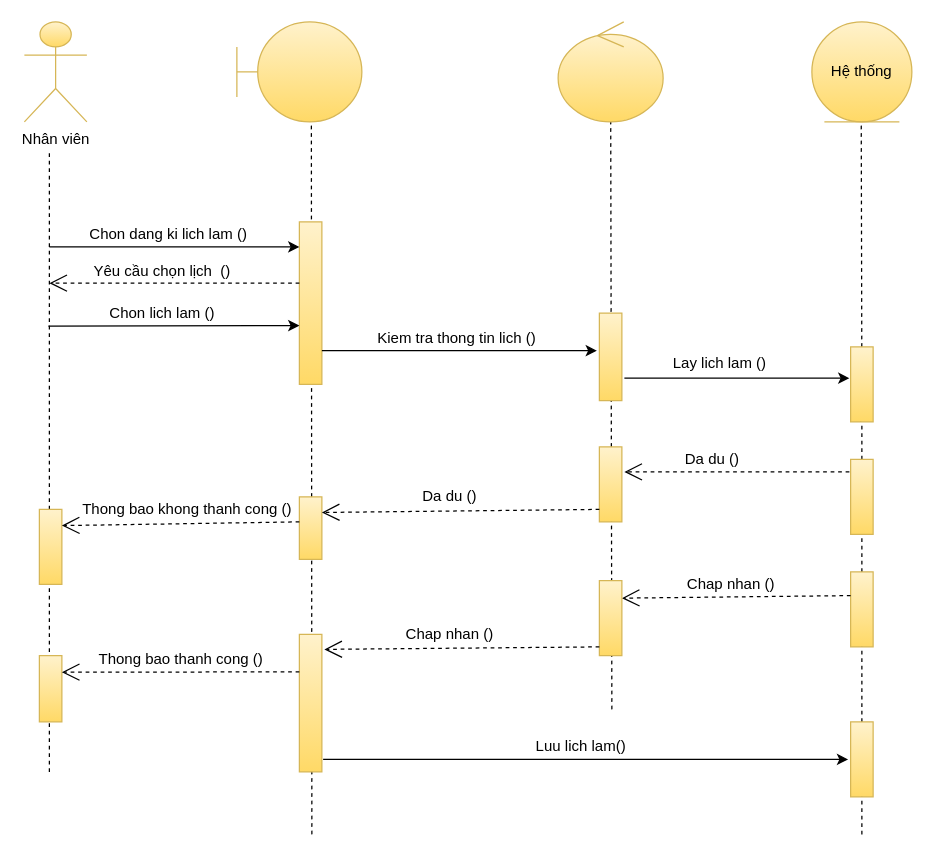
Some shapes in this 934 by 858 pixel diagram are drawn without their labels. Each missing label, with the centre of its shape:
Form đăng kí lịch làm: [299,71]
Xử lí đăng kí lịch: [610,71]
